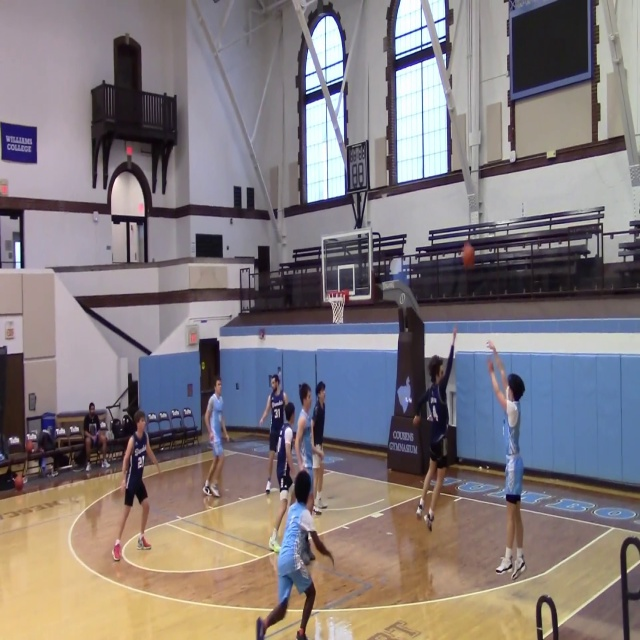Basketball: (462, 243, 475, 268)
